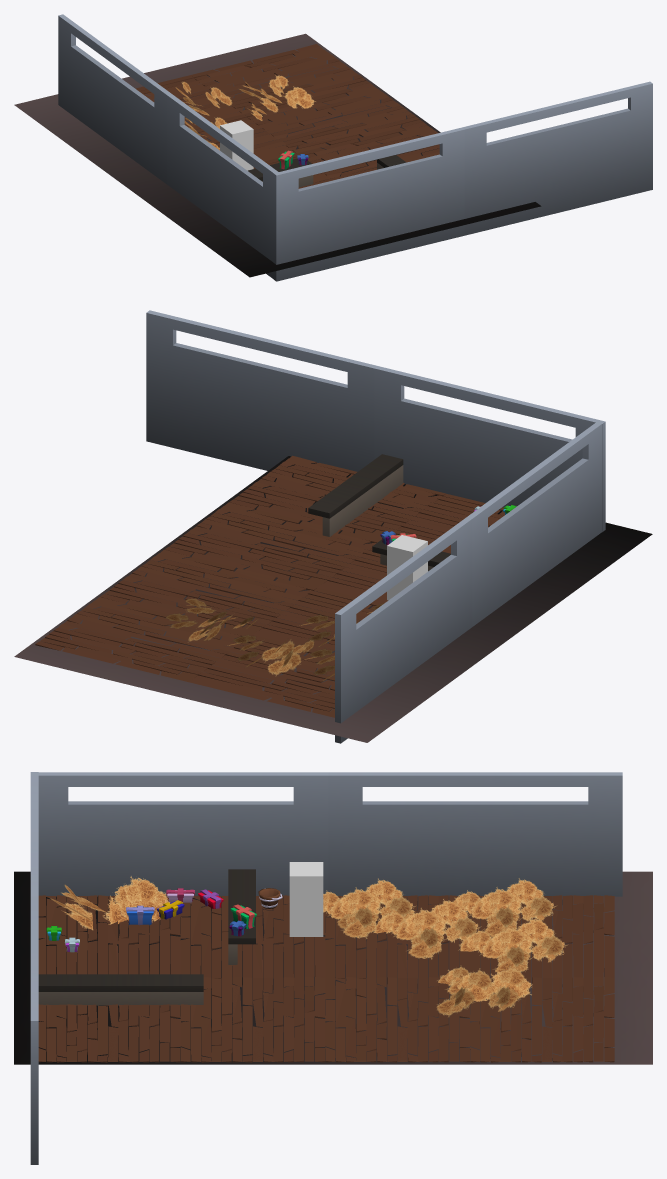
The model's file is Pen_Updated.glb.
3 renders of one model, top to bottom at view 1: azimuth 30°, elevation 25°; view 2: azimuth 150°, elevation 25°; view 3: azimuth 270°, elevation 25°, orthographic. The views are drawn at different scales.
Parts seen in each view (by area): view 1: Plane.015, Plane.014, Floor, Plane.001, Hay, Cube, Plane.029; view 2: Floor, Plane.015, Plane.014, Plane.001, Plane.016, Hay, Cube; view 3: Floor, Plane.014, Plane.001, Hay, Plane.016, Plane.015, Cube, Plane.027, Plane.029.
Part boxes in pixels (x1,y1,x2,y2): Plane.015: (273,81,652,281); Plane.014: (58,14,280,278); Floor: (135,44,439,188); Plane.001: (14,33,541,277); Hay: (175,75,315,150); Cube: (220,120,253,170); Plane.029: (248,158,313,187); Floor: (35,455,504,717); Plane.015: (146,310,605,532); Plane.014: (335,421,603,743); Plane.001: (14,456,652,742); Plane.016: (308,454,403,536); Hay: (165,598,383,681); Cube: (387,535,427,600); Floor: (38,895,614,1062); Plane.014: (33,772,622,896); Plane.001: (14,871,652,1064); Hay: (323,878,567,1017); Plane.016: (38,974,203,1005); Plane.015: (30,772,38,1164); Cube: (289,862,323,936); Plane.027: (49,876,170,930); Plane.029: (228,869,255,965).
Size of the model in its own units: 19.12 by 4.74 by 19.08.
Materials: 5 (5 with a texture image).
